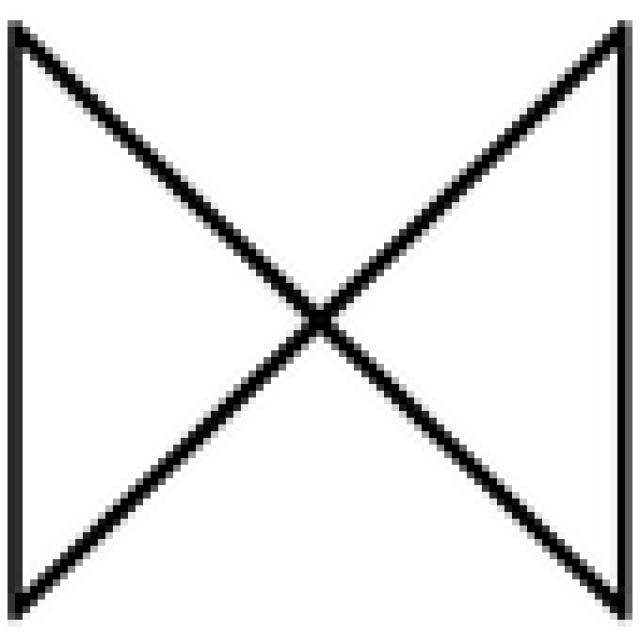Gate valve: (17, 26, 626, 614)
